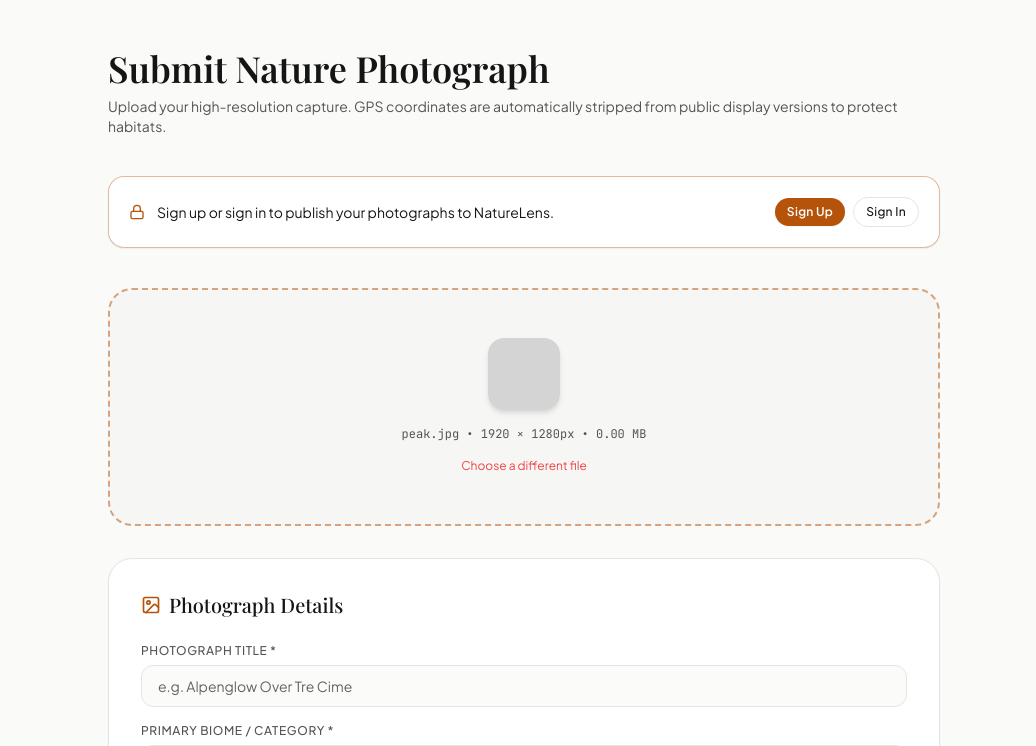
it: Interactive & Submit Features › redirects unauthenticated user to /signup when trying to submit or download
Earlier steps of the test are not shown.
Later steps or results of the test are not shown.
Type "Unauth Photo" into the field with placeholder "e.g. Alpenglow Over Tre Cime" at [524, 686], box [141,665,907,707]
(page scrolled)
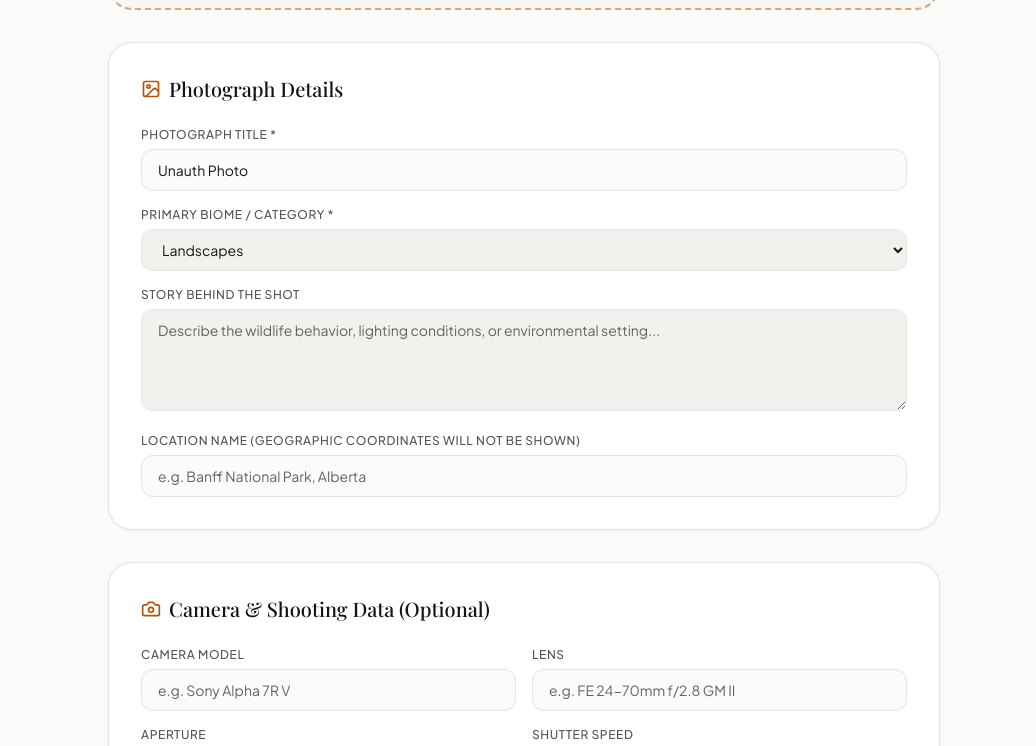
Submit the form with placeholder "Alpenglow Over Tre Cime"
(page scrolled)
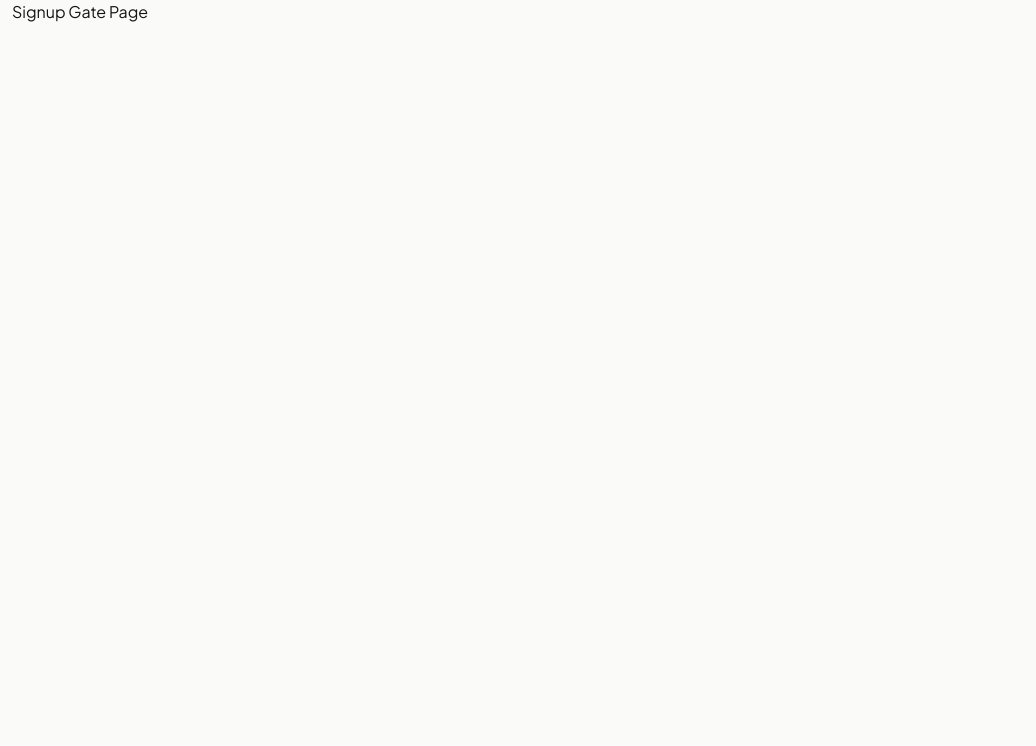
Expected: the text "Signup Gate Page" is shown, [12,1,148,22]
